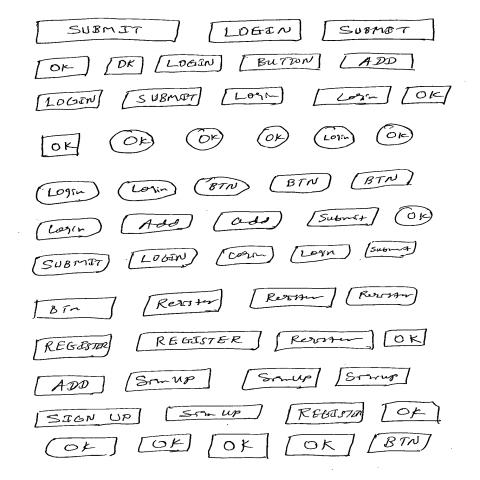Button: (35, 17, 180, 44), (135, 330, 262, 352), (320, 18, 434, 41), (207, 18, 302, 43), (33, 407, 142, 428), (272, 330, 374, 352), (142, 288, 222, 316), (32, 333, 112, 361), (124, 367, 212, 392), (31, 296, 117, 319), (248, 287, 337, 309), (121, 86, 202, 110), (240, 367, 321, 391), (284, 401, 364, 425), (31, 253, 110, 276), (311, 85, 393, 107), (165, 404, 263, 422), (206, 432, 270, 459), (238, 52, 321, 72), (333, 366, 412, 387), (284, 433, 355, 456), (306, 206, 380, 228), (44, 436, 118, 458), (35, 180, 100, 205), (127, 248, 198, 270), (120, 213, 194, 234), (35, 218, 102, 241), (212, 210, 282, 232), (345, 285, 418, 306), (33, 375, 105, 396), (35, 89, 103, 111), (338, 52, 416, 71), (33, 55, 90, 80), (350, 168, 414, 190), (380, 401, 443, 423), (366, 432, 432, 453), (215, 244, 274, 267), (269, 172, 332, 193), (154, 54, 222, 73), (116, 180, 177, 201), (220, 86, 284, 105), (108, 129, 154, 154), (290, 244, 350, 263), (193, 176, 249, 196), (136, 433, 192, 452), (313, 125, 355, 150), (40, 132, 80, 158), (400, 84, 452, 104), (185, 127, 224, 151), (364, 240, 416, 258), (375, 124, 414, 146), (383, 328, 428, 347), (394, 205, 433, 226), (102, 56, 144, 75), (256, 125, 289, 149)
